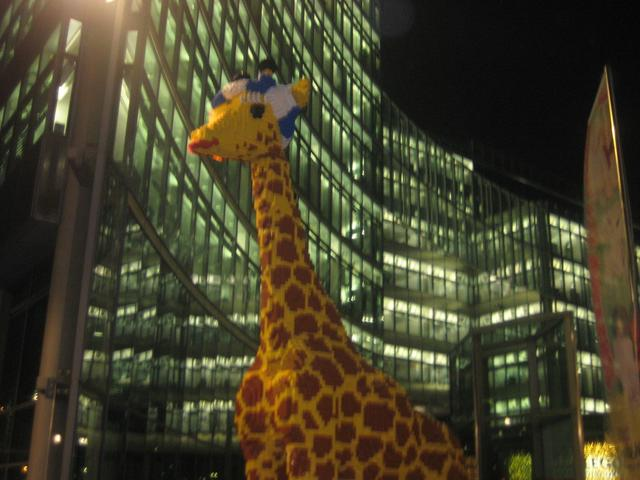giraffe: (113, 32, 465, 480)
